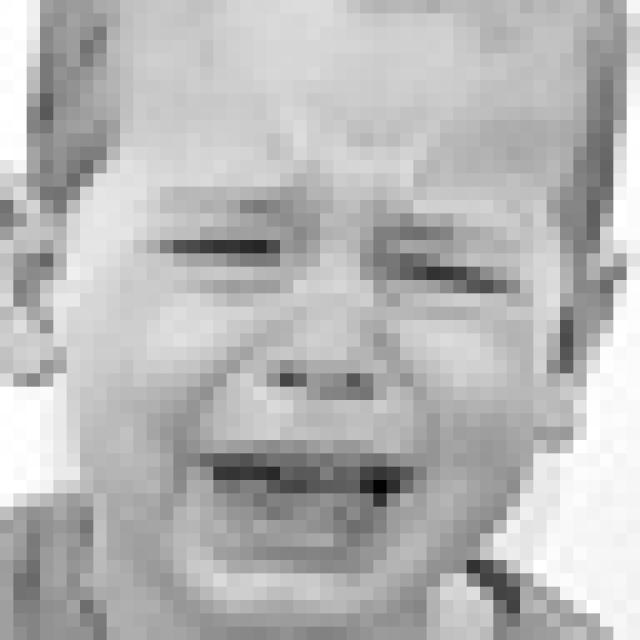sad: (146, 146, 535, 581)
